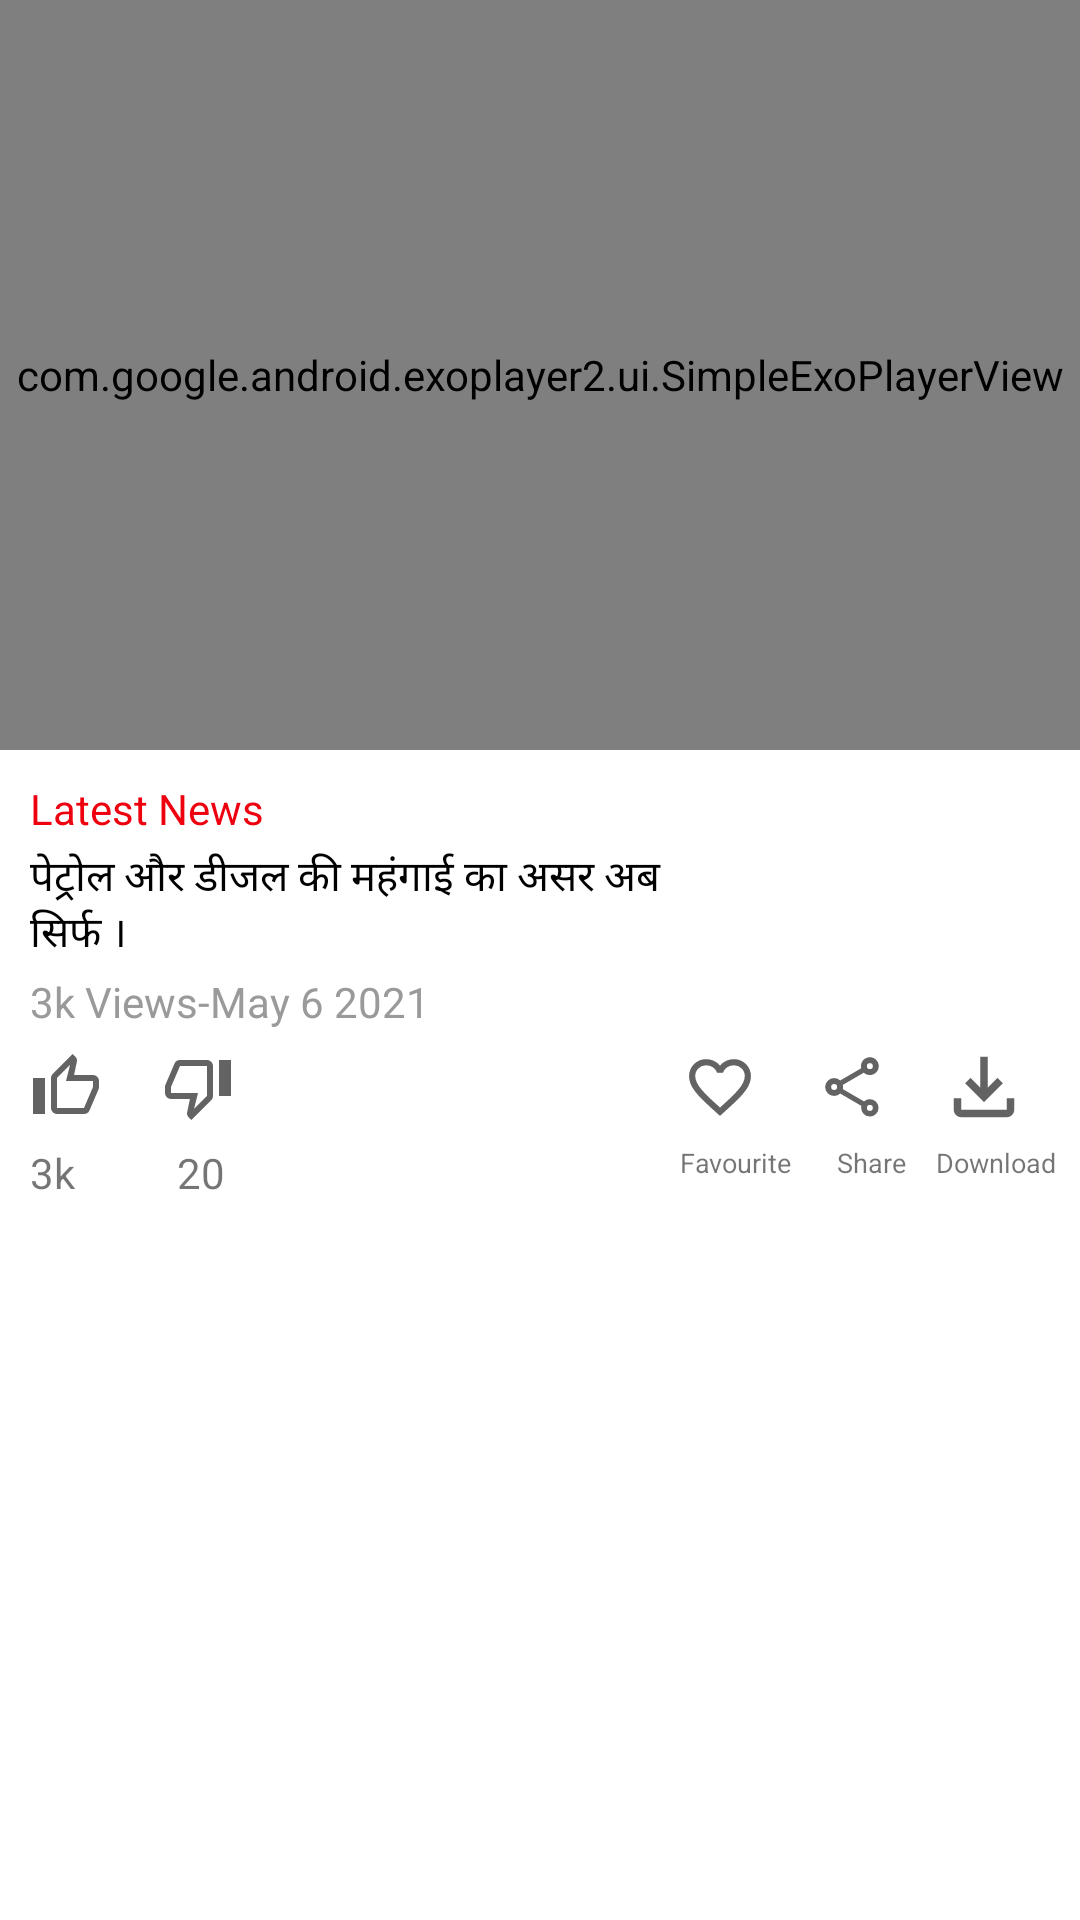

Named icons in this screenshot (1080×1920) and their bounding boxes, (left=x1, top=y1, right=x2, bottom=y2):
dislike: (left=165, top=1060, right=231, bottom=1120)
like: (left=33, top=1054, right=99, bottom=1114)
